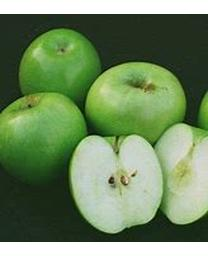apple: (71, 134, 163, 232), (83, 60, 186, 143), (0, 91, 87, 186), (17, 26, 101, 106), (155, 123, 207, 225)
